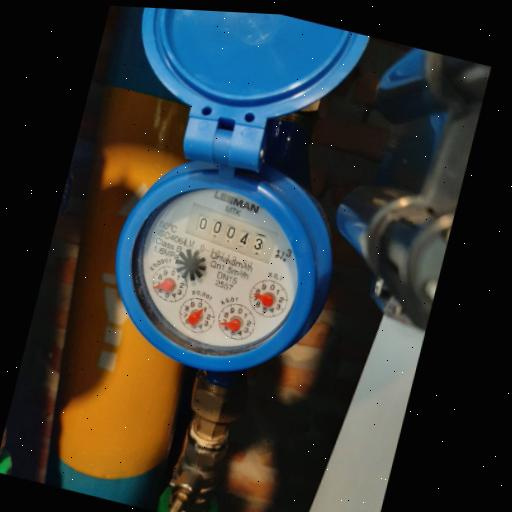0: (221, 223, 239, 245), (208, 219, 224, 241), (194, 213, 211, 233)
3: (248, 231, 268, 257)
4: (236, 229, 252, 251)
border_water_meter_number: (180, 201, 283, 266)
